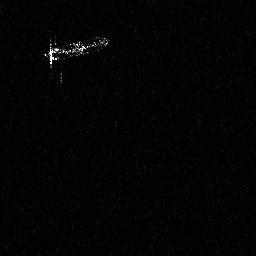ship: (41, 33, 110, 86)
